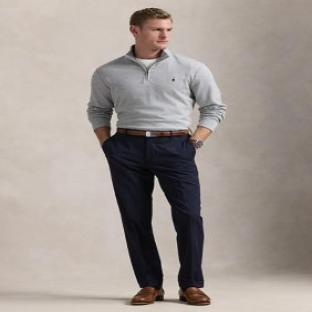Human: (87, 8, 226, 304)
